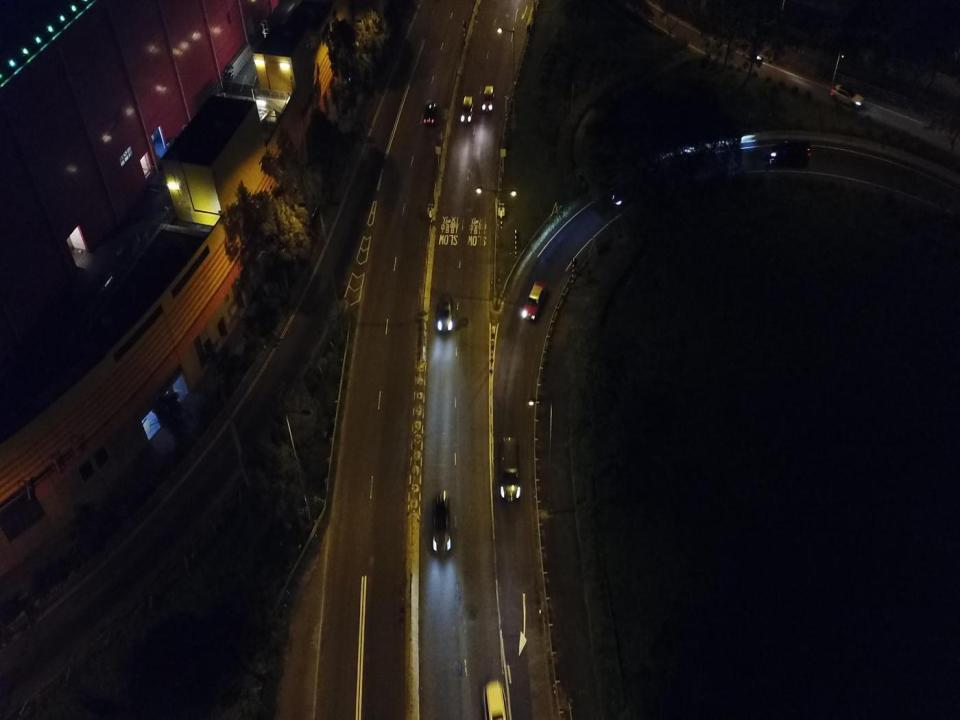car: (499, 435, 521, 500), (431, 492, 452, 556), (523, 278, 547, 322), (831, 81, 865, 109), (483, 680, 506, 719), (435, 294, 454, 333), (480, 84, 496, 112), (461, 96, 474, 123), (423, 102, 437, 126)
van: (766, 138, 811, 170)
